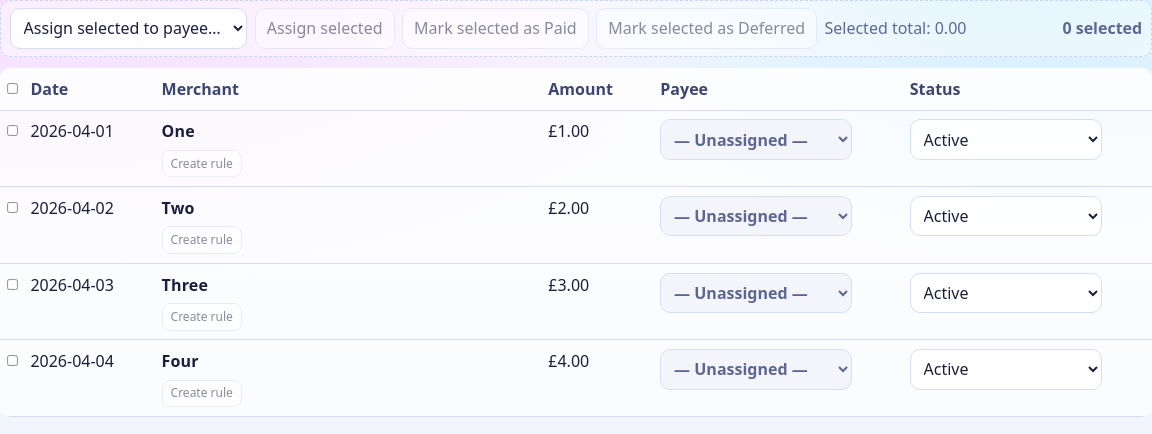
Test: EntriesTable › supports shift-selecting a range of entries
Click the checkbox named "Select entry 1".
click(12, 131)  # box [7,126,18,136]
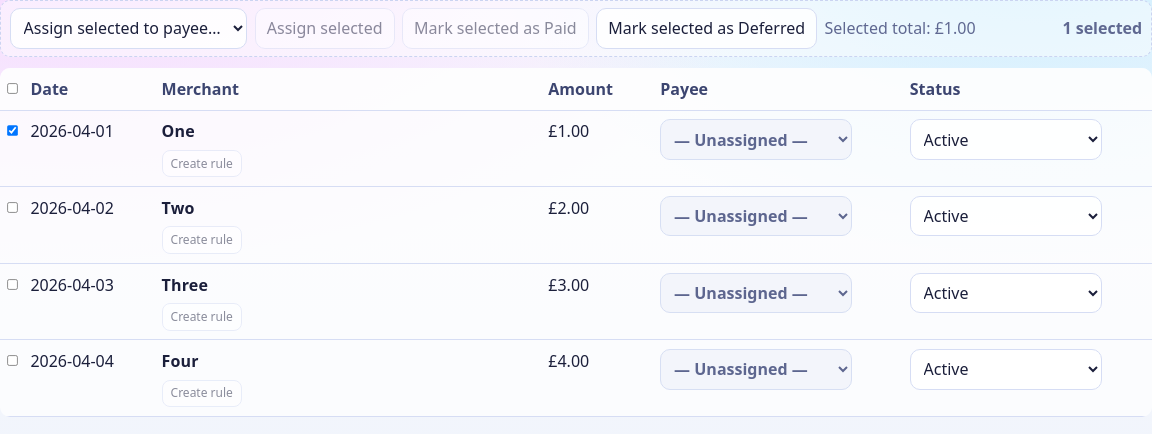
Click the checkbox named "Select entry 3".
click(12, 284)  # box [7,279,18,290]
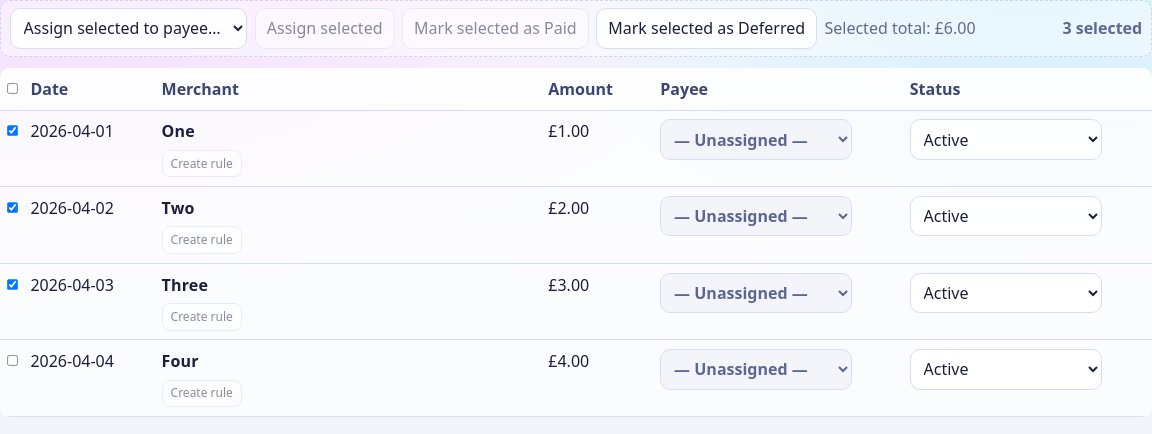
Now the checkbox named "Select entry 1" is checked, box [7,126,18,136]
Now the checkbox named "Select entry 3" is checked, box [7,279,18,290]
Now the checkbox named "Select entry 2" is checked, box [7,202,18,213]
